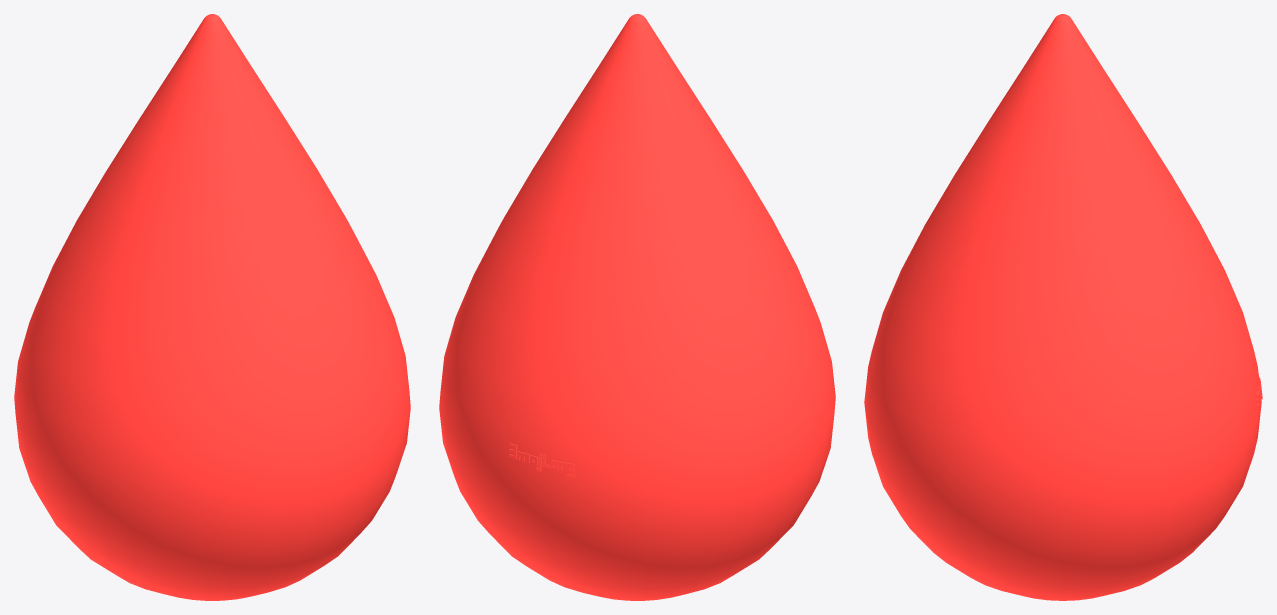
Rendered from drop_of_blood.gltf.
3 views of the same model, side by side, from view 1: azimuth 30°, elevation 25°; view 2: azimuth 150°, elevation 25°; view 3: azimuth 270°, elevation 25° (orthographic).
Parts seen in each view (by area): view 1: Sphere.372; view 2: Sphere.372; view 3: Sphere.372.
Part boxes in pixels (x1,y1,x2,y2): Sphere.372: (14,14,410,600); Sphere.372: (439,14,835,600); Sphere.372: (864,14,1262,600).
Bounding box in the file's own units: 1.4 × 2.2 × 1.4.
1 material, 1 textured.
